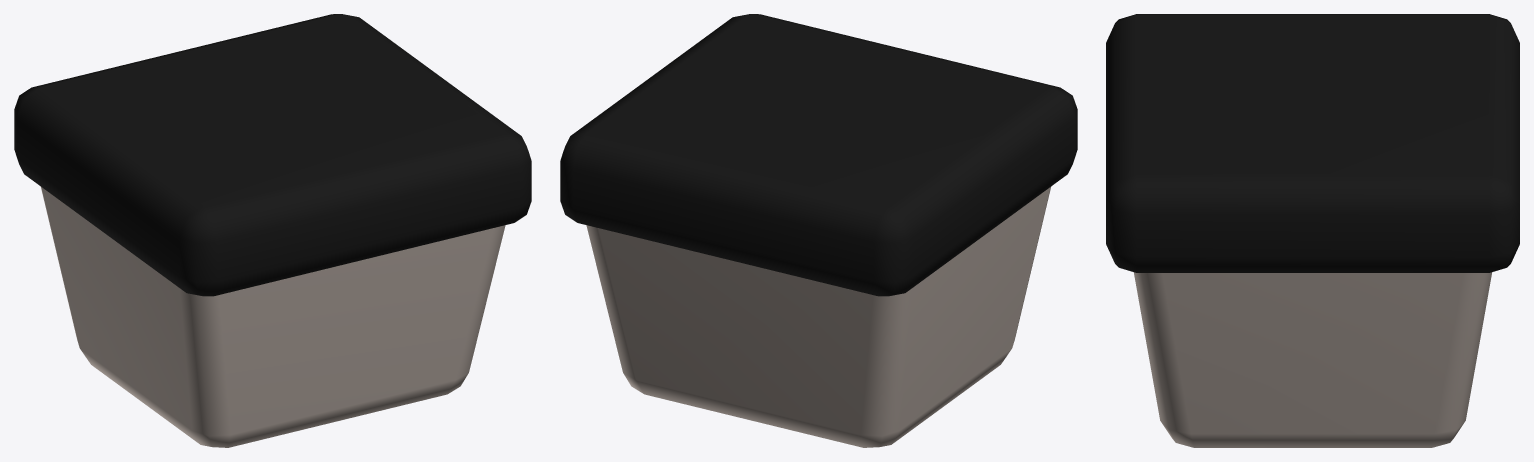
File: stool_01_black.fbx
The picture shows the model from 3 angles, left to right: view 1: azimuth 30°, elevation 25°; view 2: azimuth 150°, elevation 25°; view 3: azimuth 270°, elevation 25°; orthographic projection. The views are drawn at different scales.
Visible parts, largest first — view 1: stool_01_black; view 2: stool_01_black; view 3: stool_01_black.
Part boxes in pixels (x1=…): stool_01_black: x1=14, y1=14, x2=531, y2=447; stool_01_black: x1=560, y1=14, x2=1077, y2=447; stool_01_black: x1=1106, y1=14, x2=1519, y2=447.
Bounding box in the file's own units: 57.16 × 42.36 × 54.02.
Materials: 1 (1 with a texture image).
